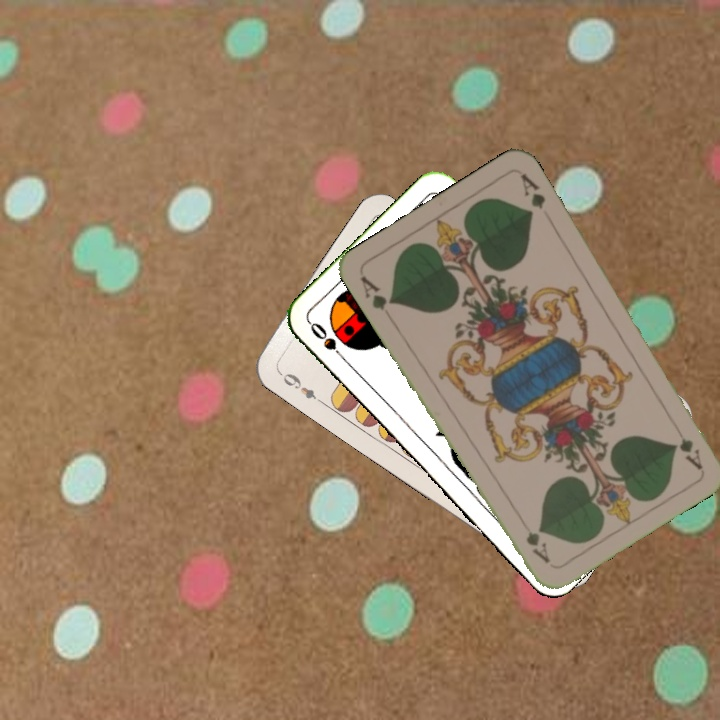E9: (274, 366, 326, 407)
GA: (667, 417, 705, 472), (356, 271, 397, 314)
SO: (306, 318, 351, 366)
